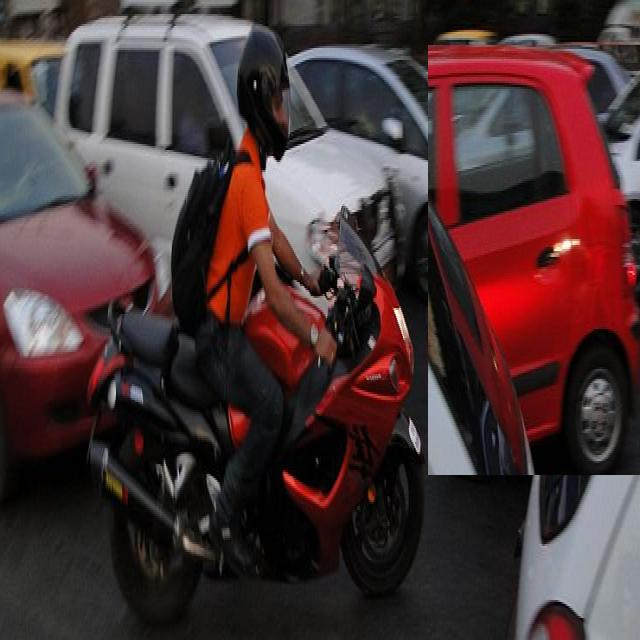car: (428, 46, 640, 475), (0, 92, 155, 496)
motorcycle: (90, 26, 424, 624)
